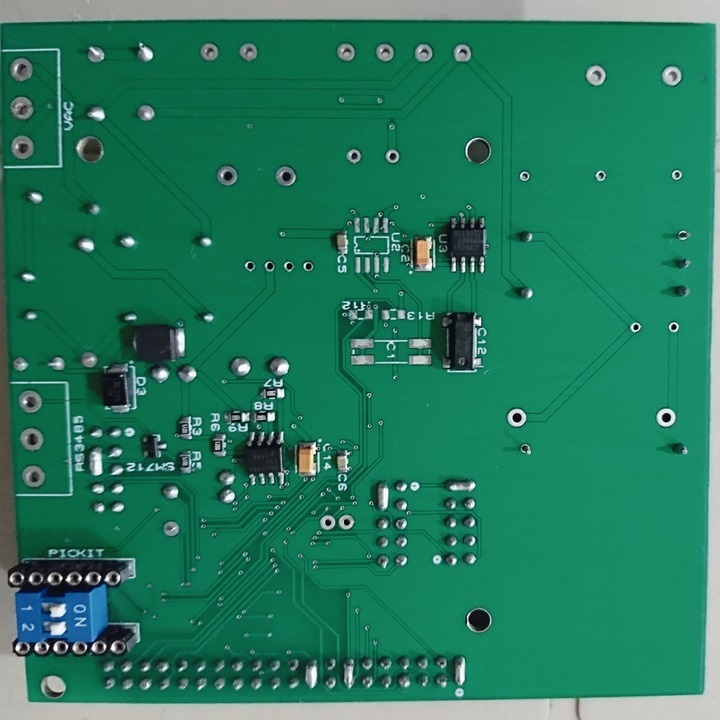F: (7, 132, 37, 162), (8, 93, 36, 125), (15, 387, 44, 417), (8, 55, 36, 86), (19, 463, 47, 492), (19, 426, 46, 455), (583, 61, 608, 89), (236, 40, 262, 66), (84, 41, 108, 69), (273, 163, 297, 190), (134, 100, 158, 126), (451, 42, 474, 68), (216, 163, 239, 189), (655, 405, 678, 430), (661, 64, 684, 89), (507, 406, 529, 432), (413, 40, 436, 64), (196, 40, 220, 63), (76, 346, 97, 372), (374, 41, 396, 64), (161, 518, 184, 540), (335, 40, 356, 64), (44, 353, 67, 373), (9, 355, 30, 375), (319, 512, 337, 534), (338, 512, 356, 532), (674, 227, 693, 244), (518, 440, 533, 461), (347, 146, 362, 166), (384, 148, 401, 165), (667, 318, 681, 335), (629, 318, 642, 335), (301, 259, 314, 275), (282, 258, 294, 275), (518, 169, 530, 184), (263, 259, 274, 275), (595, 169, 607, 183), (672, 167, 682, 182), (243, 260, 254, 273)
P: (443, 476, 480, 495), (450, 651, 469, 688), (87, 443, 105, 478), (374, 478, 390, 515), (304, 655, 320, 692), (340, 657, 356, 692)
